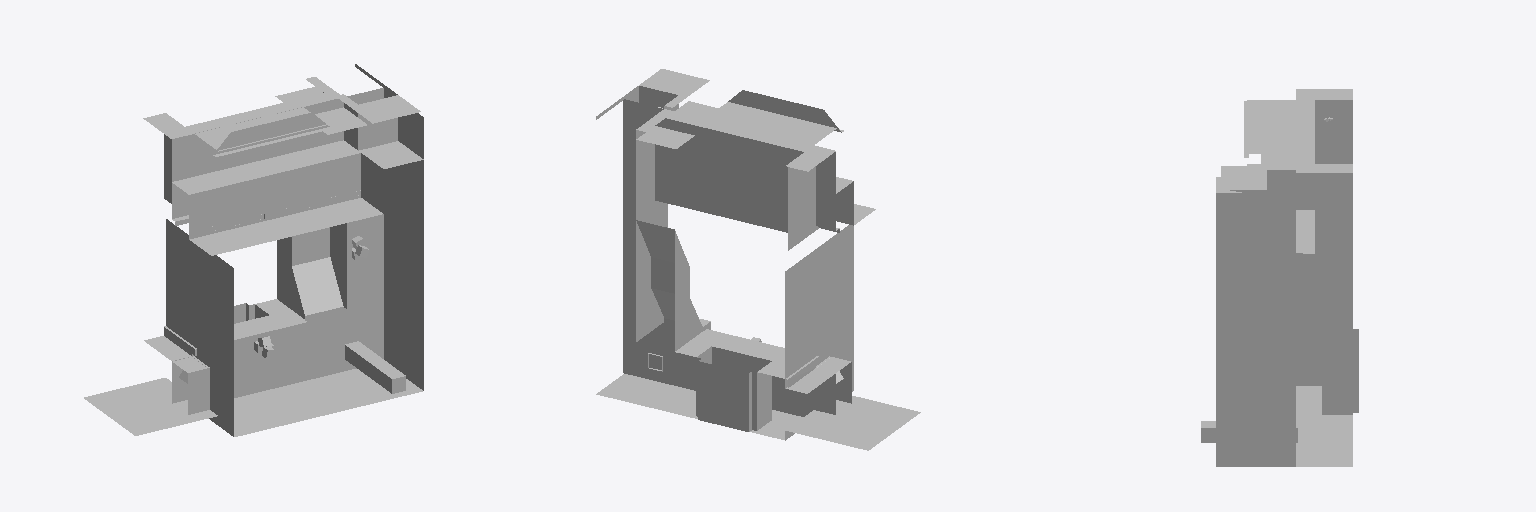
File: aztec_4_mesh.obj
3 views of the same model, side by side, from view 1: azimuth 30°, elevation 25°; view 2: azimuth 150°, elevation 25°; view 3: azimuth 270°, elevation 25° (orthographic).
Visible parts, largest first — view 1: aztec_4_mesh_0, aztec_4_mesh_1; view 2: aztec_4_mesh_0, aztec_4_mesh_1; view 3: aztec_4_mesh_0.
Boxes of the visible parts, <box> form: aztec_4_mesh_0: <box>84,64,423,436</box>; aztec_4_mesh_1: <box>172,88,383,403</box>; aztec_4_mesh_0: <box>596,69,920,450</box>; aztec_4_mesh_1: <box>623,99,835,431</box>; aztec_4_mesh_0: <box>1201,89,1352,466</box>.
Size of the model in its own units: 38.95 by 39.4 by 19.56.